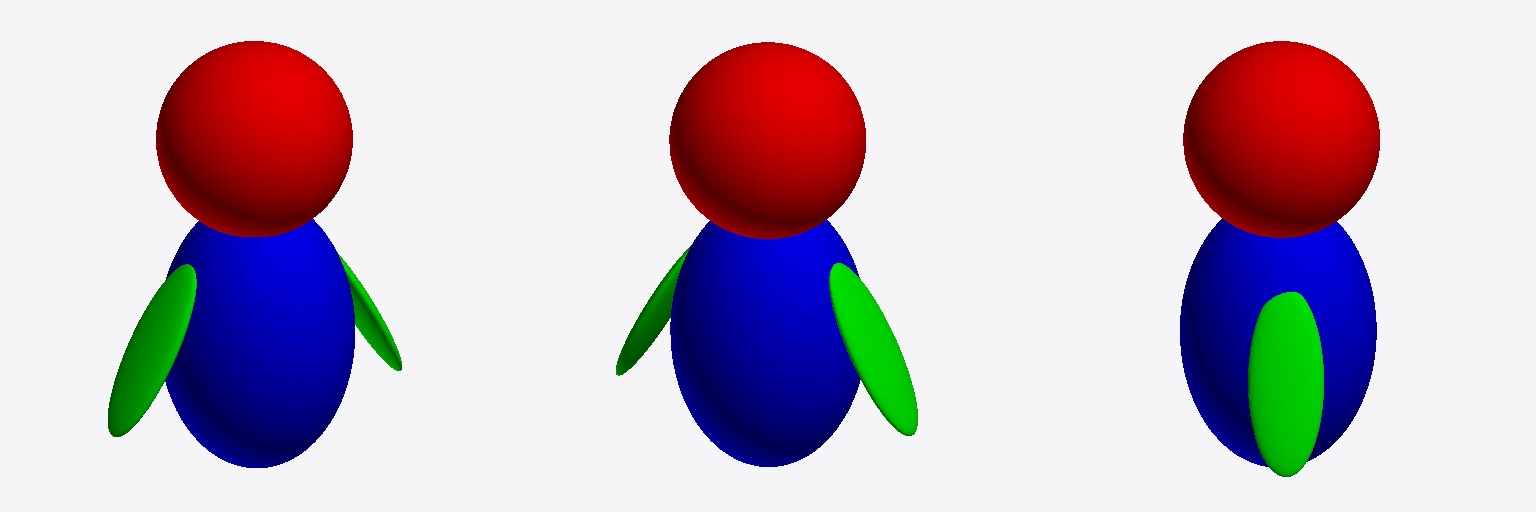
File: human.obj
3 views of the same model, side by side, from view 1: azimuth 30°, elevation 25°; view 2: azimuth 150°, elevation 25°; view 3: azimuth 270°, elevation 25° (orthographic).
Size of the model in its own units: 3.4 by 4.6 by 2.04.